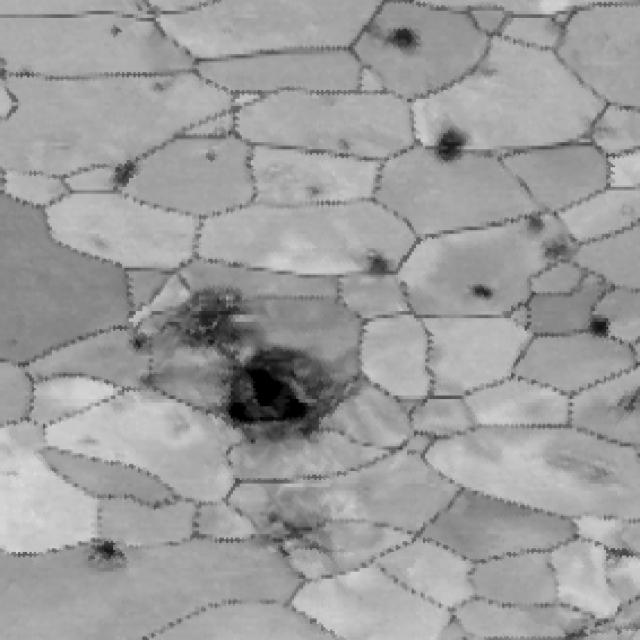good_void: (214, 336, 348, 443), (113, 272, 253, 362), (232, 492, 354, 567), (81, 528, 128, 568), (372, 20, 427, 53), (434, 126, 467, 165), (112, 158, 142, 200), (363, 247, 399, 278), (474, 59, 508, 80), (585, 117, 615, 139), (468, 283, 503, 300), (545, 241, 571, 262), (303, 181, 327, 203), (618, 387, 640, 410), (331, 131, 356, 150), (526, 213, 546, 234), (203, 148, 229, 163), (148, 79, 172, 93), (589, 312, 608, 329), (108, 23, 133, 33)
